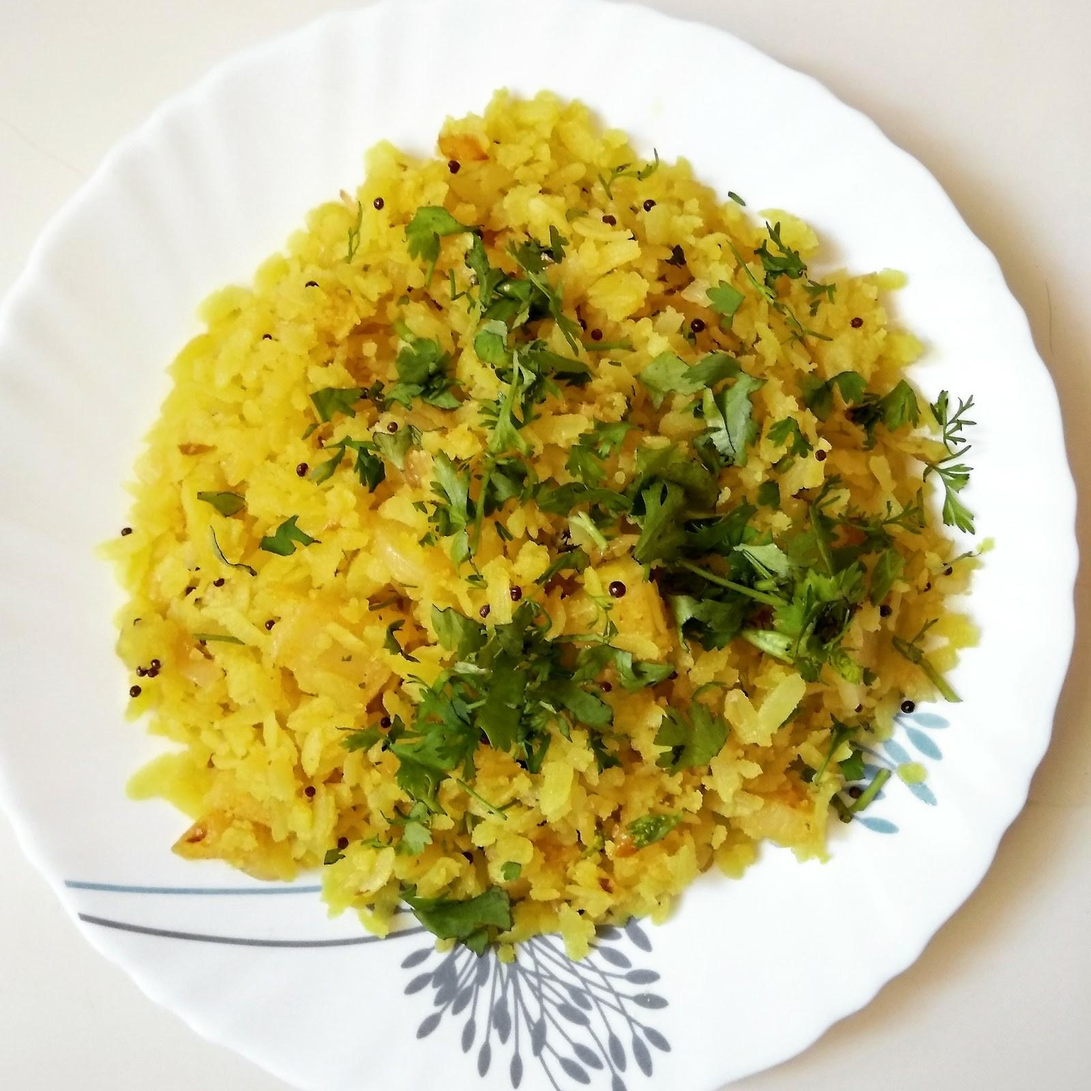Poha: (105, 89, 987, 955)
